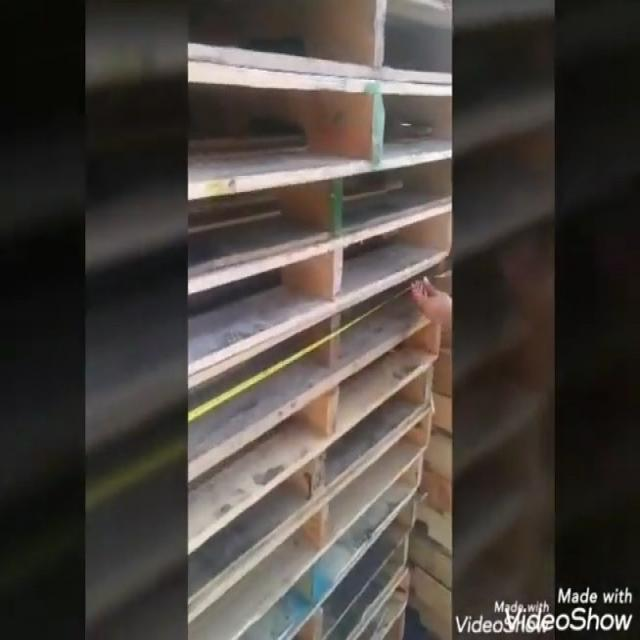Palette: (184, 0, 455, 640), (406, 333, 456, 640)
